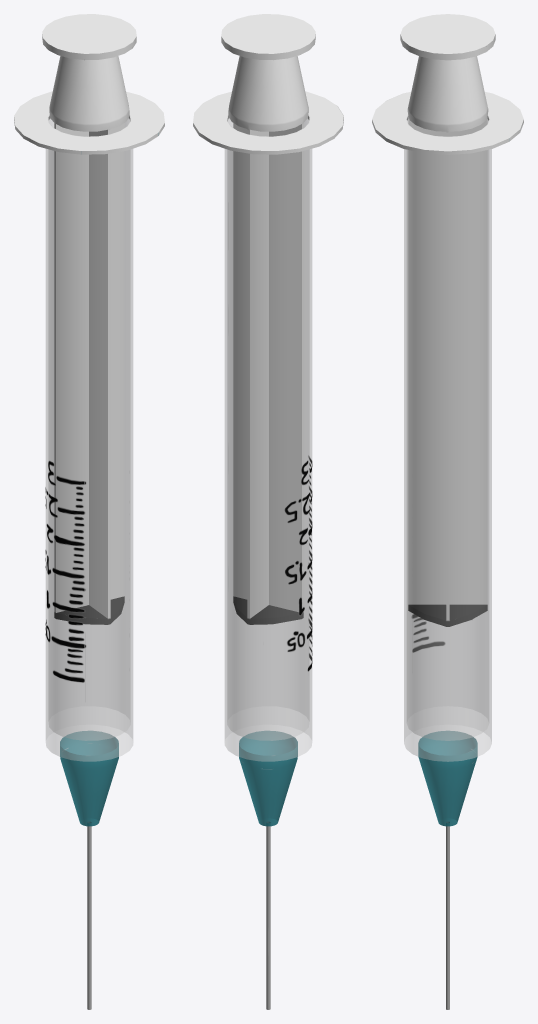
File: syringe.glb
3 renders of one model, left to right at view 1: azimuth 30°, elevation 25°; view 2: azimuth 150°, elevation 25°; view 3: azimuth 270°, elevation 25°, orthographic.
Parts seen in each view (by area): view 1: Luxury_Assets:Syringe_Base; view 2: Luxury_Assets:Syringe_Base; view 3: Luxury_Assets:Syringe_Base.
Boxes of the visible parts, x1,y1,x2,y2 form: Luxury_Assets:Syringe_Base: [14, 14, 164, 1009]; Luxury_Assets:Syringe_Base: [193, 14, 343, 1009]; Luxury_Assets:Syringe_Base: [372, 14, 523, 1009].
Bounding box in the file's own units: 0.0532 × 0.3772 × 0.0532.
2 materials, 2 textured.
